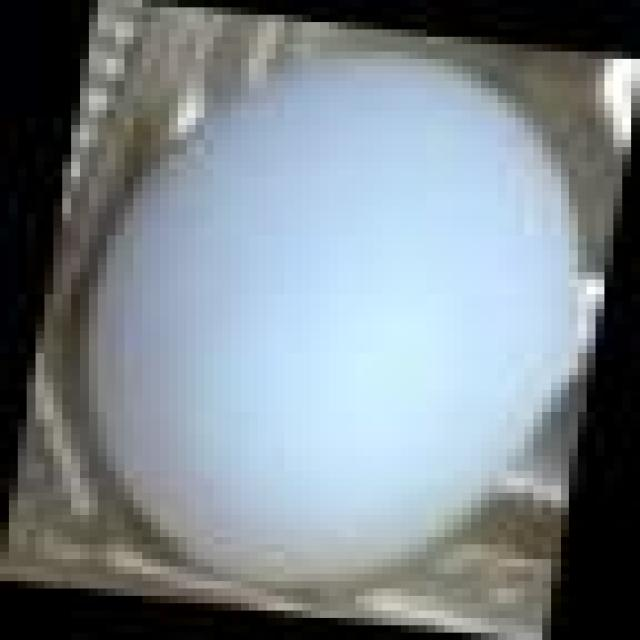Egg: (50, 20, 614, 618)
